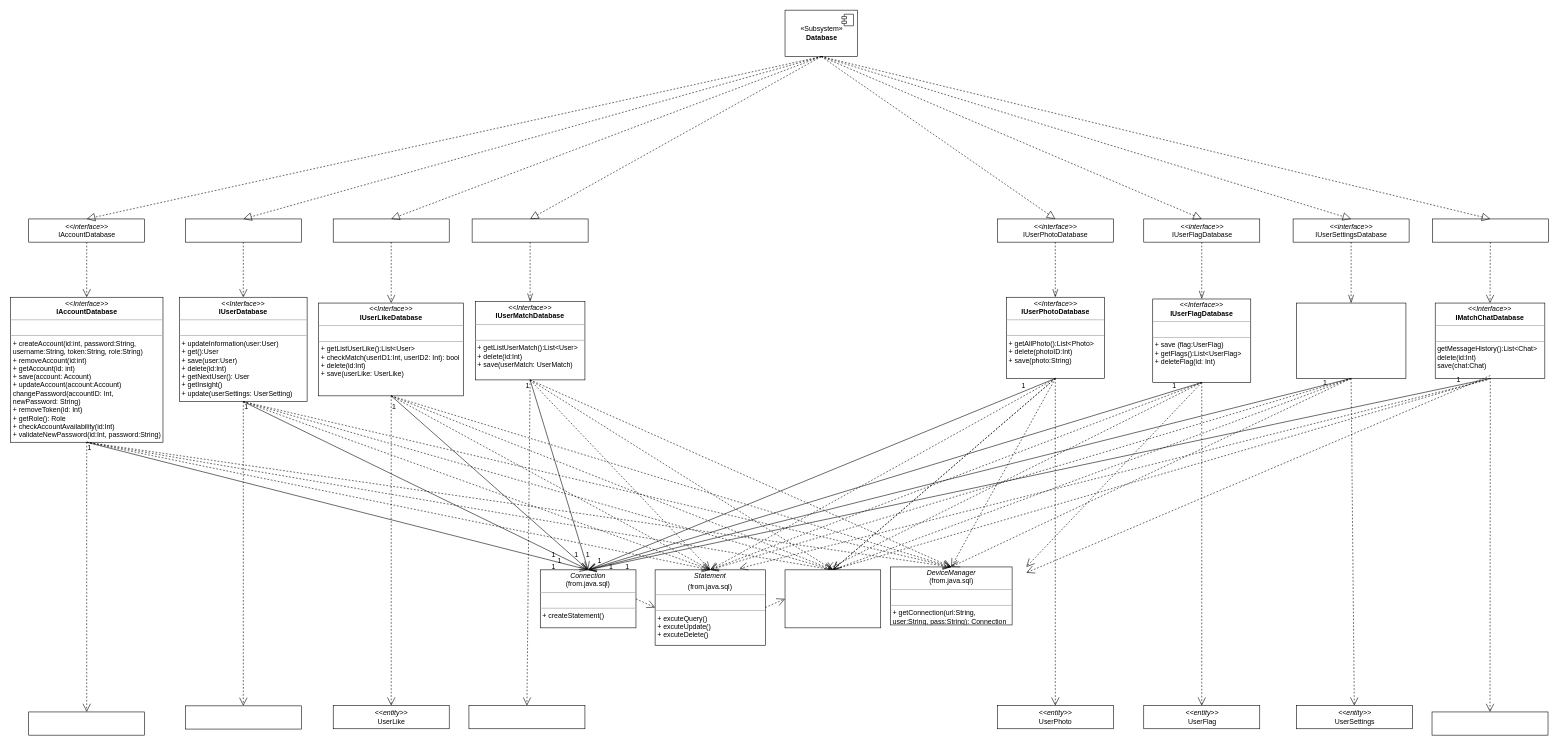
The diagram is 1558 pixels wide and 745 high, and some of its shapes have lost their labels. Each missing label, with the centre of its shape:
"<<entity>> Account" goes at point (86, 723).
"<<entity>> MatchChat" goes at point (1489, 723).
"<<entity>> User" goes at point (243, 717).
"<<entity>> UserMatch" goes at point (526, 717).
"<<interface>> IMatchChatDatabase" goes at point (1490, 230).
"<<interface>> IUserDatabase" goes at point (243, 230).
"<<interface>> IUserLikeDatabase" goes at point (391, 230).
"<<interface>> IUserMatchDatabase" goes at point (530, 230).
"<<Interface>> IUserSettingsDatabase + save(userSettings: UserSetting )" goes at point (1351, 340).
"ResultSet (from.java.sql) + getString()" goes at point (832, 598).
